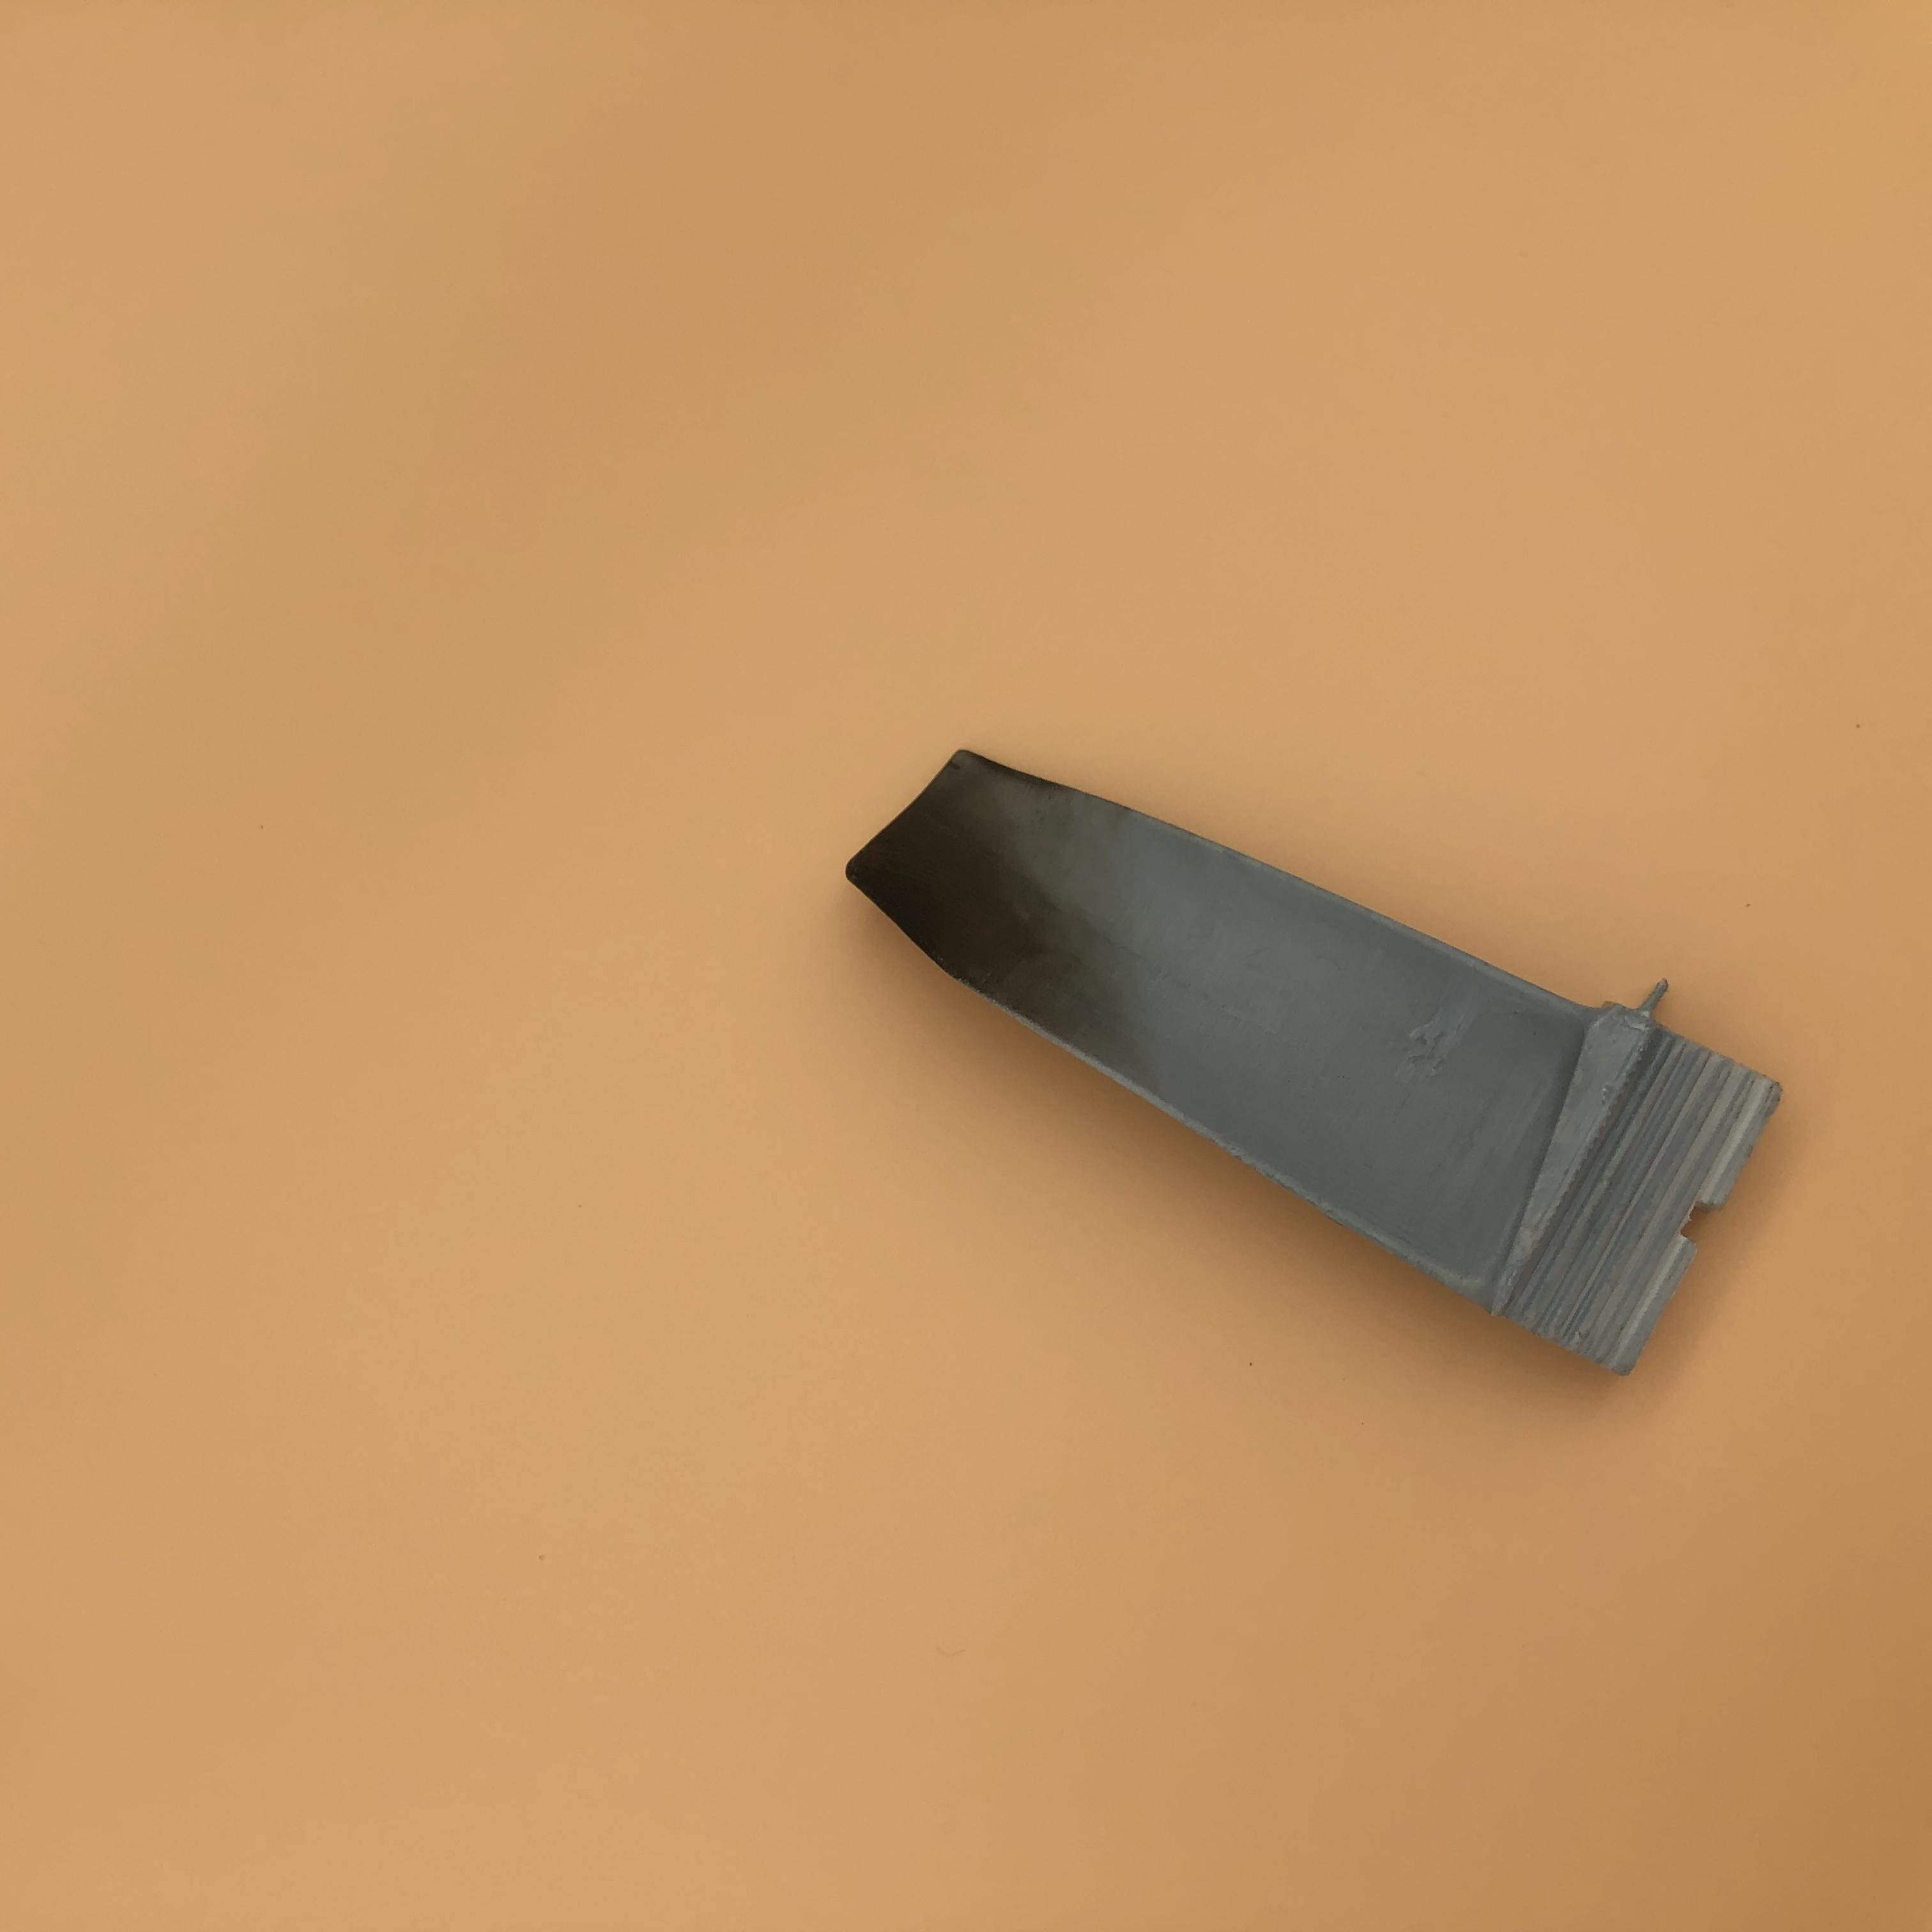ablation: (860, 805, 1161, 1028)
